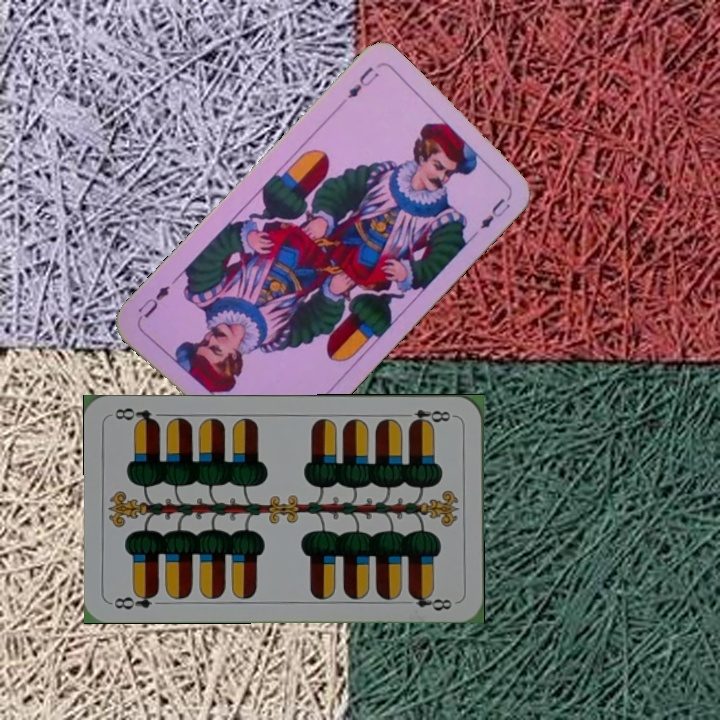E8: (398, 405, 457, 428), (110, 588, 161, 613)
EU: (334, 62, 382, 109)
